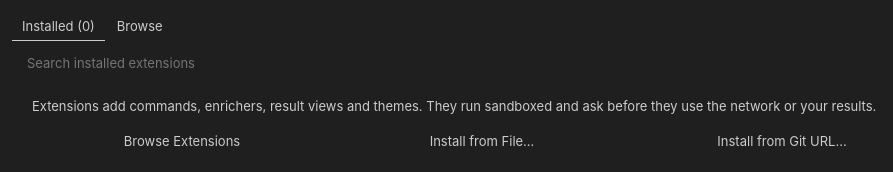
Test: Browse extensions › shows an error with Try again when the request fails
This screenshot has width=893, height=172.
Click the tab "Browse": (140, 26) [107, 12, 173, 41]
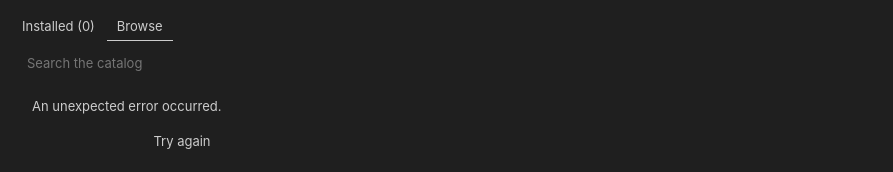
Now the message "An unexpected error occurred." is shown, box [32, 98, 222, 114]
Now the button "Try again" is shown, box [32, 128, 332, 154]
